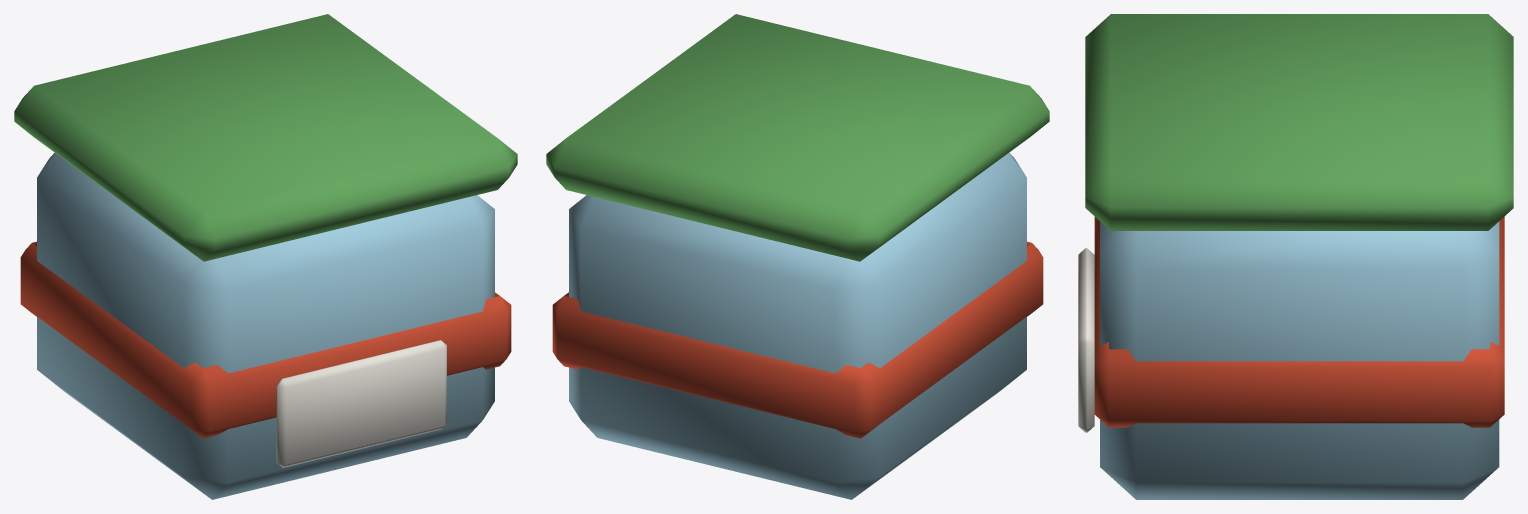
The model's file is SM_FoodTub_Square_01.glb.
3 views of the same model, side by side, from view 1: azimuth 30°, elevation 25°; view 2: azimuth 150°, elevation 25°; view 3: azimuth 270°, elevation 25° (orthographic). The views are drawn at different scales.
Visible parts, largest first — view 1: SM_FoodTub_Square_01; view 2: SM_FoodTub_Square_01; view 3: SM_FoodTub_Square_01.
Part boxes in pixels (x1,y1,x2,y2): SM_FoodTub_Square_01: [14, 14, 517, 499]; SM_FoodTub_Square_01: [546, 14, 1049, 499]; SM_FoodTub_Square_01: [1078, 14, 1513, 499].
Bounding box in the file's own units: 0.236 × 0.205 × 0.24.
1 material, 1 textured.
